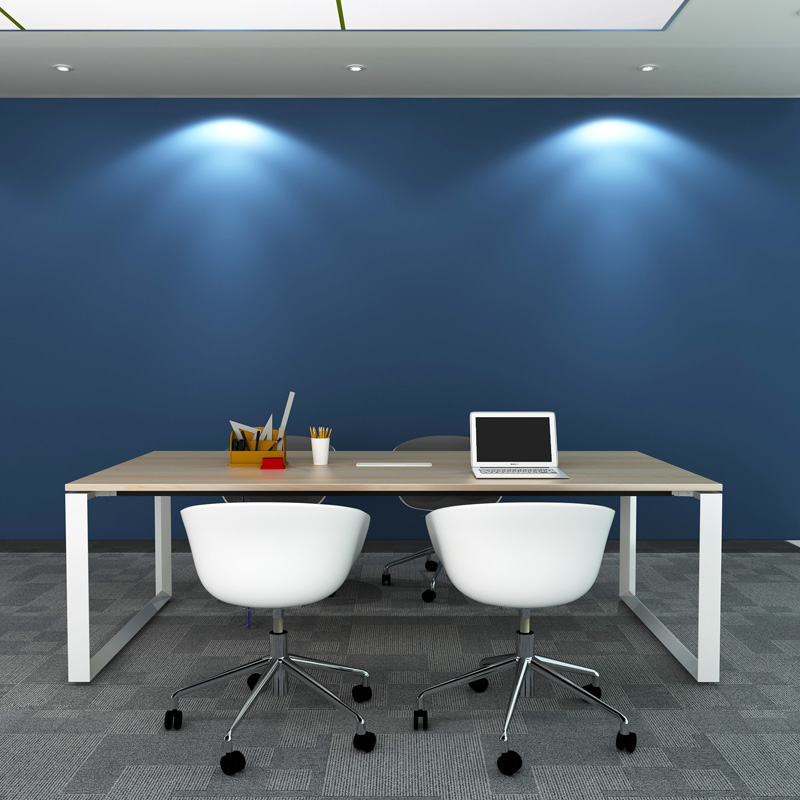conference_table: (65, 448, 724, 683)
